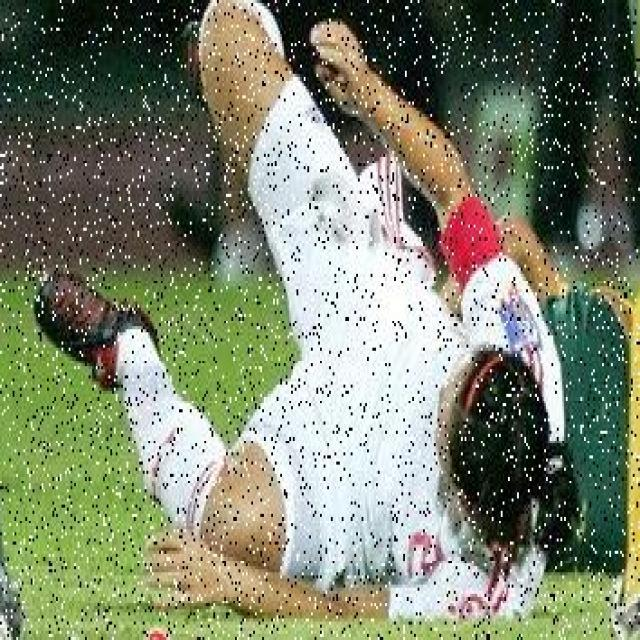fall: (38, 10, 555, 612)
